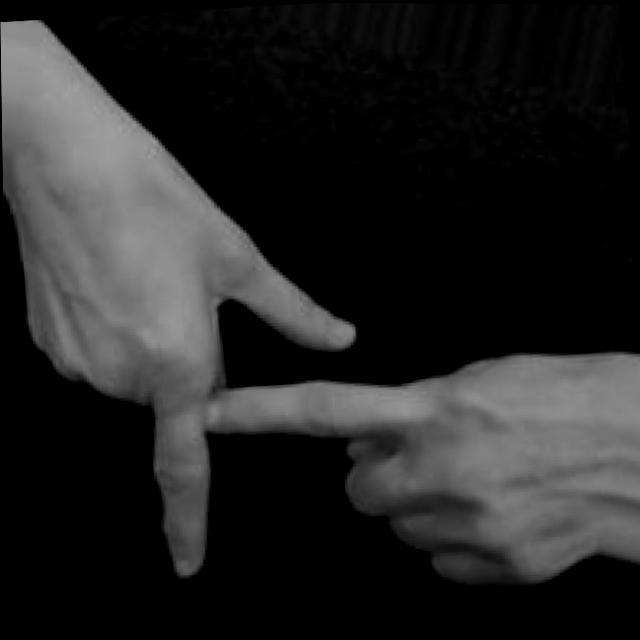F: (6, 108, 603, 621)
